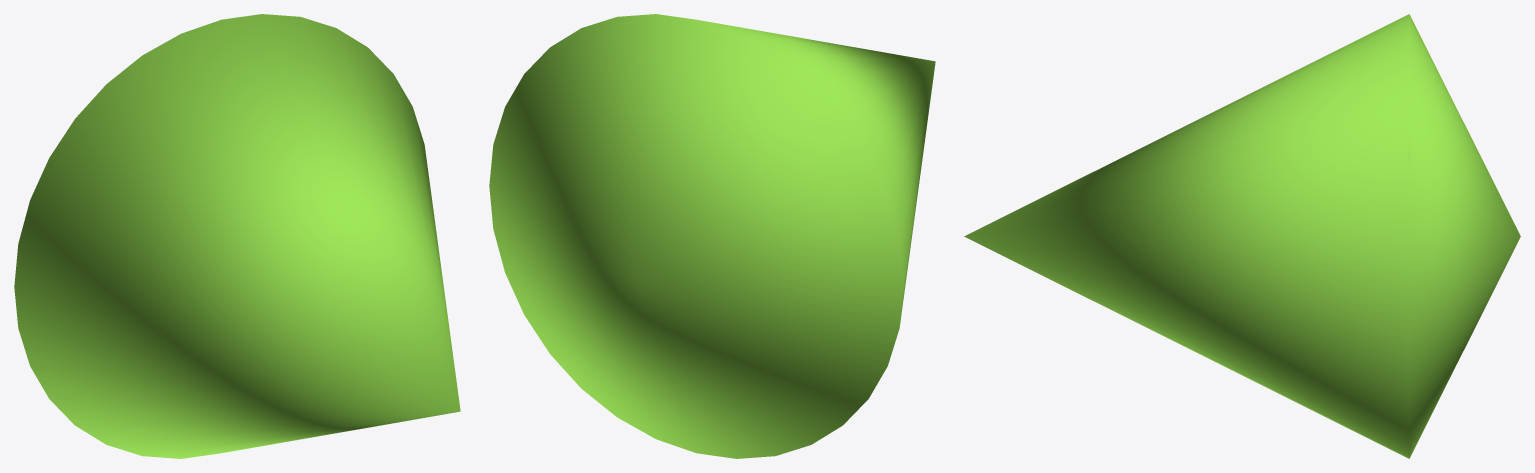
File: player.obj
3 views of the same model, side by side, from view 1: azimuth 30°, elevation 25°; view 2: azimuth 150°, elevation 25°; view 3: azimuth 270°, elevation 25° (orthographic). The views are drawn at different scales.
Visible parts, largest first — view 1: player; view 2: player; view 3: player.
Boxes of the visible parts, x1,y1,x2,y2 form: player: (14,14,460,458); player: (489,14,935,458); player: (964,14,1520,458).
Bounding box in the file's own units: 1.6 × 1.6 × 2.
Materials: 1 (1 with a texture image).
